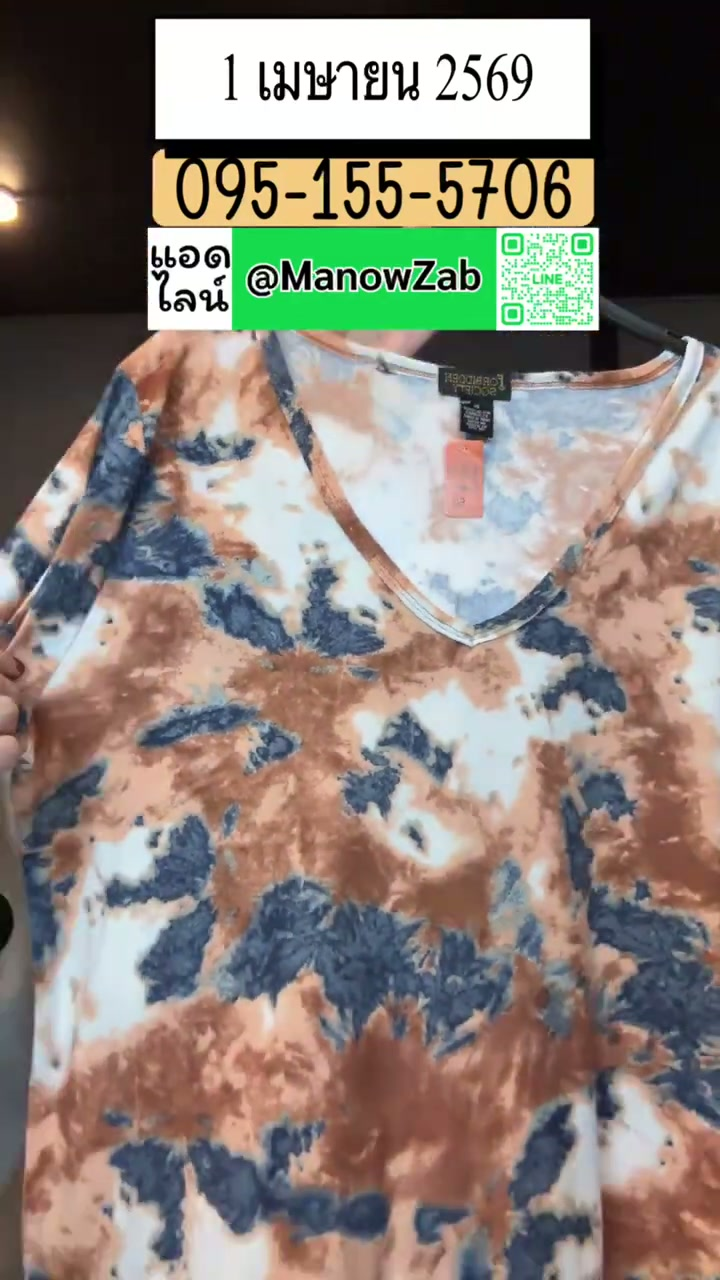display_shirt: (0, 331, 719, 1279)
